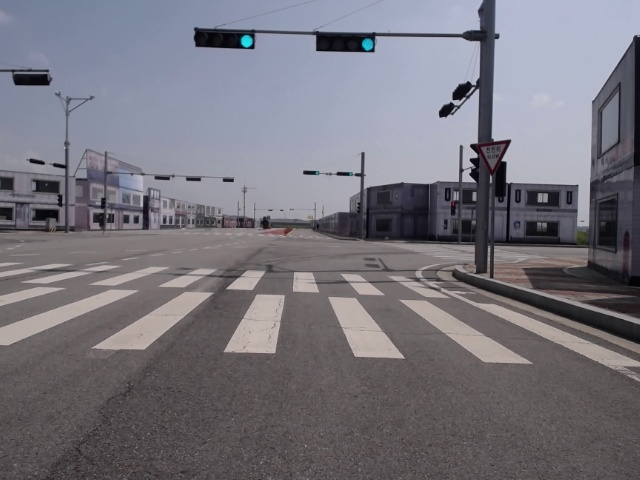straight_green_4: (316, 32, 376, 54), (196, 32, 257, 48), (305, 170, 320, 174), (338, 172, 352, 176)
